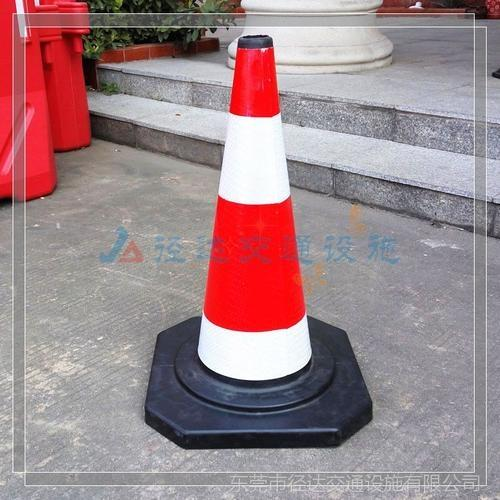cone_barrel: (183, 44, 326, 389)
